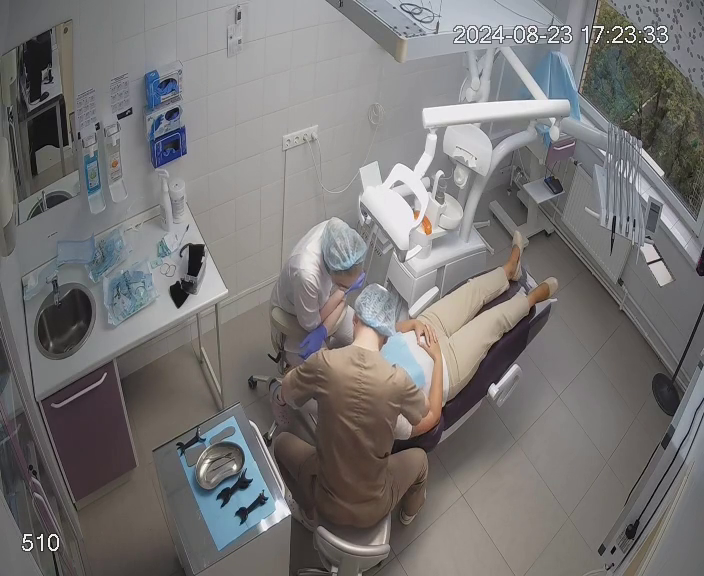Patient: (316, 229, 559, 447)
